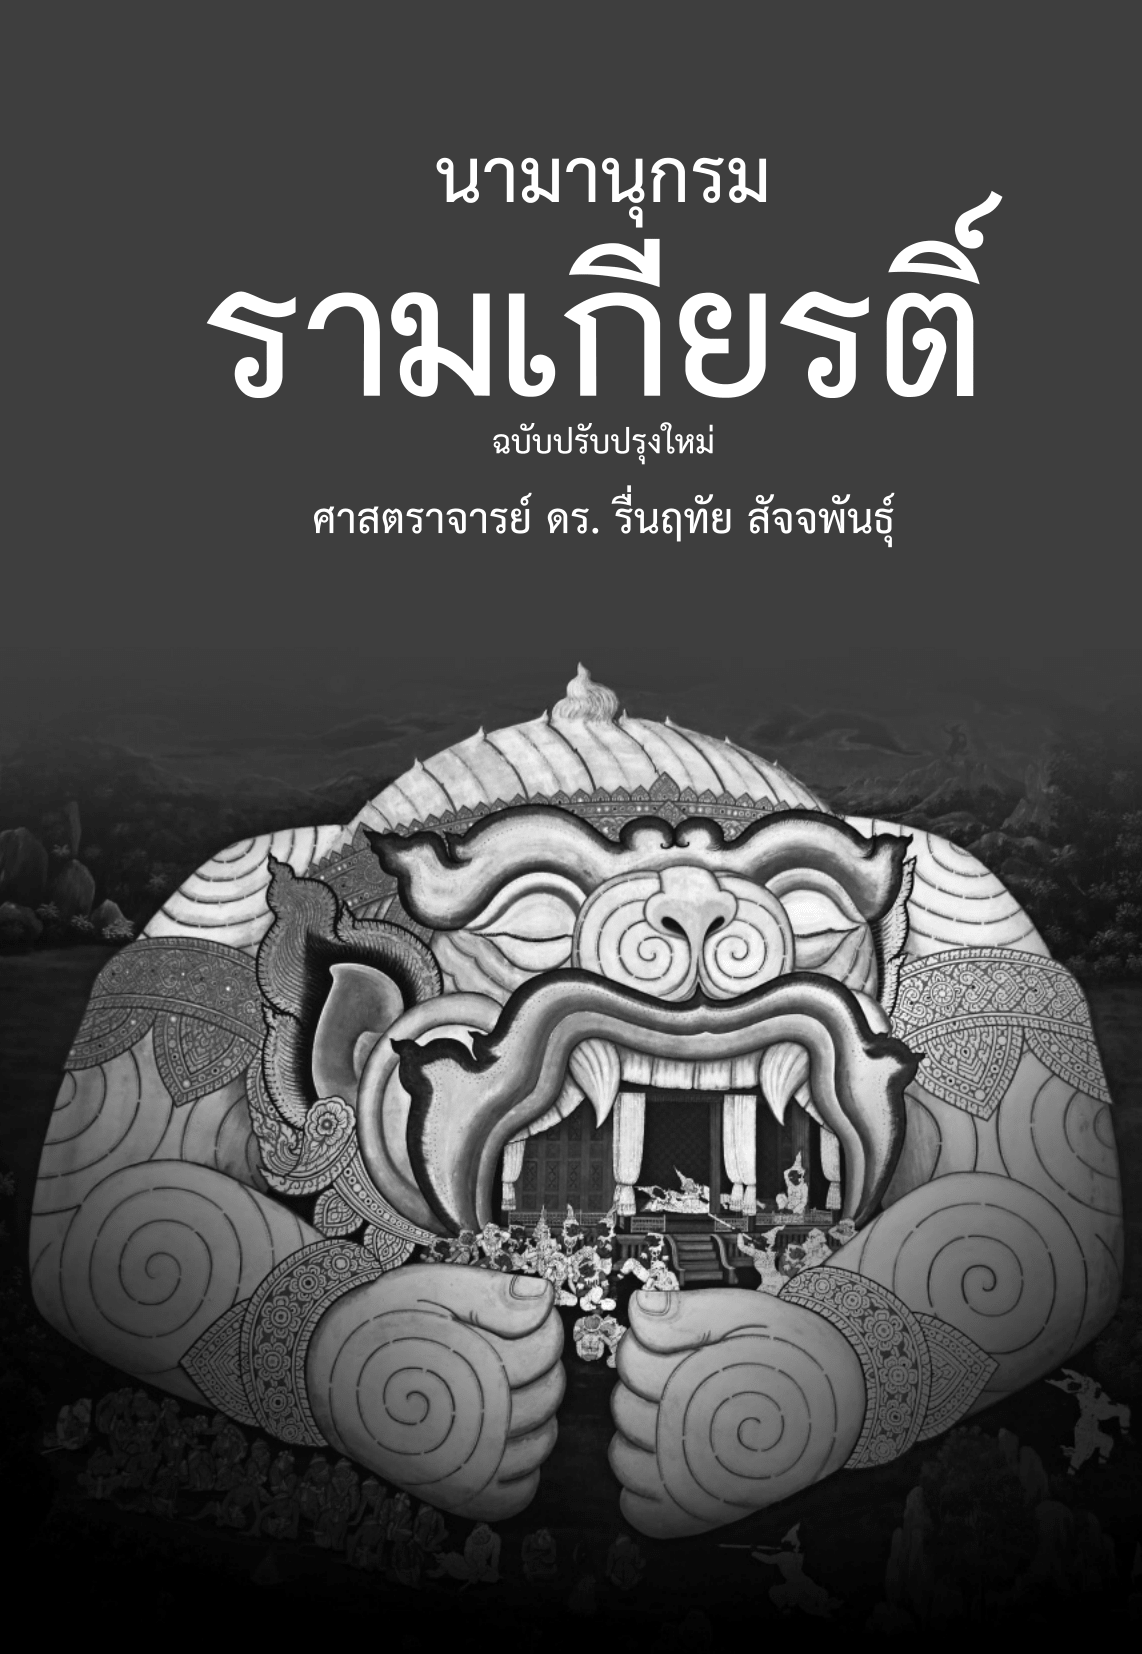thai: (200, 234, 873, 406), (310, 481, 901, 552), (881, 183, 1006, 406), (431, 147, 770, 229), (491, 415, 719, 468)
